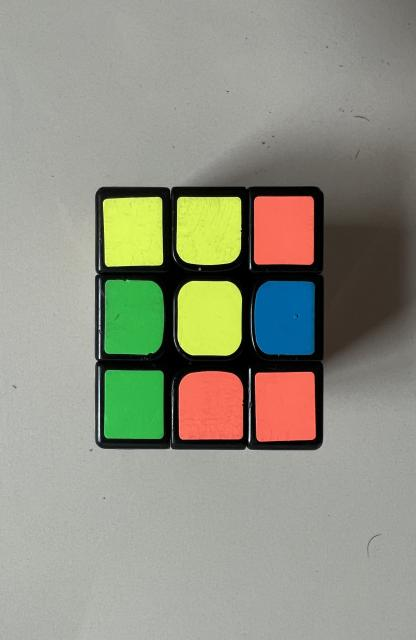Blue: (255, 281, 315, 355)
Green: (104, 280, 165, 355), (104, 370, 164, 439)
Orange: (179, 371, 244, 440), (255, 371, 316, 442), (254, 196, 314, 265)
Yellow: (177, 280, 242, 356), (177, 196, 242, 265), (103, 196, 164, 266)
